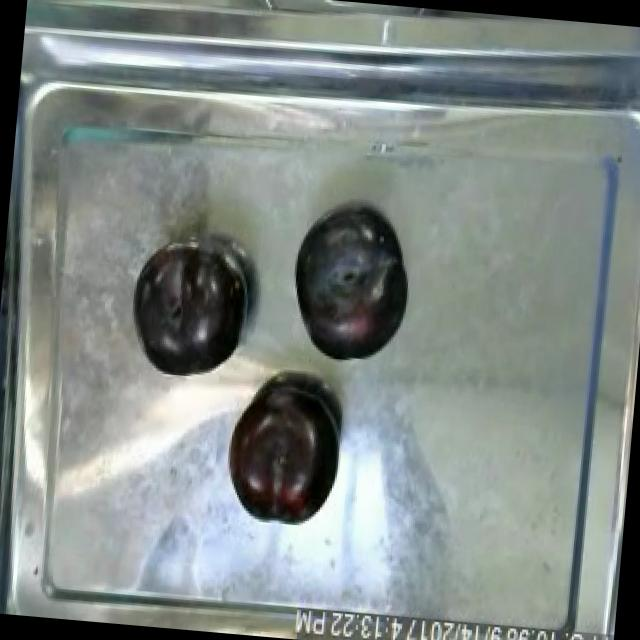Fruit: (284, 206, 420, 370), (218, 377, 348, 533), (124, 234, 254, 383)
